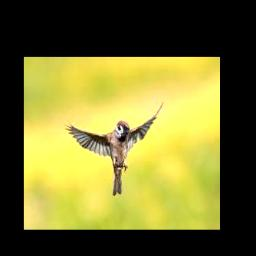Sparrow: (64, 101, 162, 196)
